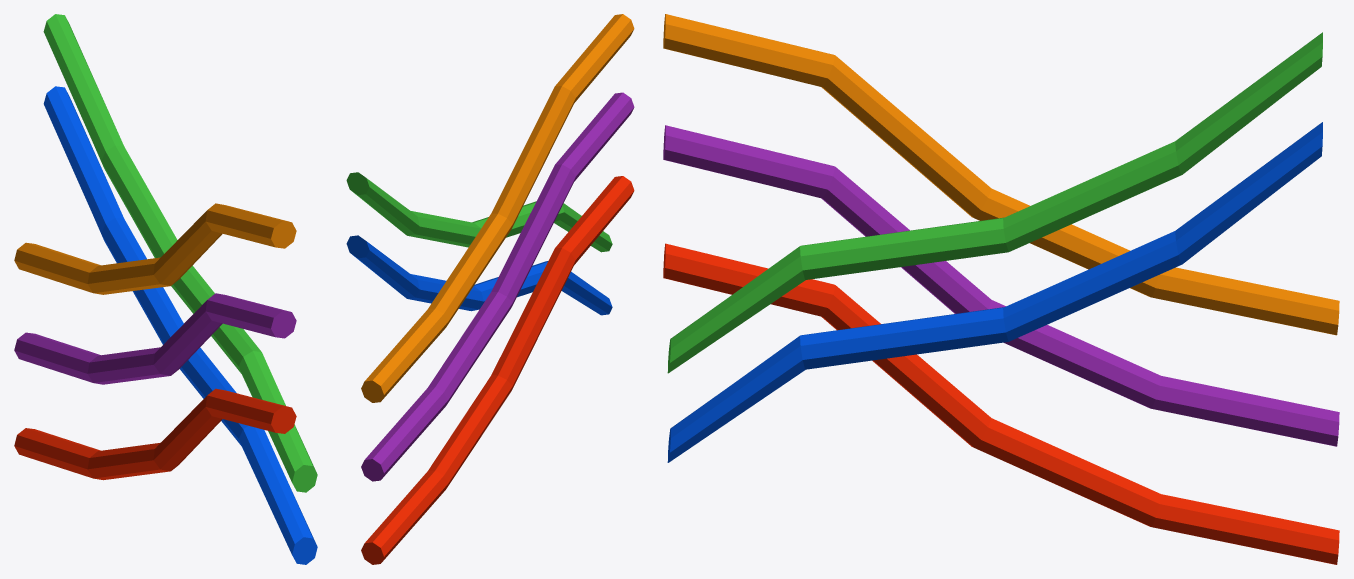
3 renders of one model, left to right at view 1: azimuth 30°, elevation 25°; view 2: azimuth 150°, elevation 25°; view 3: azimuth 270°, elevation 25°, orthographic. The views are drawn at different scales.
Parts seen in each view (by area): view 1: kabel grün, kabel blau, kabel orange, kabel lila, kabel rot; view 2: kabel orange, kabel rot, kabel lila, kabel blau, kabel grün; view 3: kabel grün, kabel blau, kabel rot, kabel orange, kabel lila.
Boxes of the visible parts, left/top/right/bottom form: kabel grün: left=43, top=14, right=317, bottom=492; kabel blau: left=43, top=86, right=317, bottom=564; kabel orange: left=14, top=203, right=296, bottom=294; kabel lila: left=14, top=293, right=296, bottom=384; kabel rot: left=14, top=388, right=296, bottom=480; kabel orange: left=361, top=14, right=634, bottom=402; kabel rot: left=361, top=176, right=634, bottom=564; kabel lila: left=361, top=92, right=634, bottom=481; kabel blau: left=346, top=235, right=612, bottom=315; kabel grün: left=346, top=172, right=612, bottom=252; kabel grün: left=667, top=32, right=1322, bottom=373; kabel blau: left=667, top=122, right=1322, bottom=462; kabel rot: left=663, top=243, right=1339, bottom=564; kabel orange: left=663, top=14, right=1339, bottom=335; kabel lila: left=663, top=125, right=1339, bottom=446.
Bounding box in the file's own units: 0.5782 × 3.8 × 4.27.
